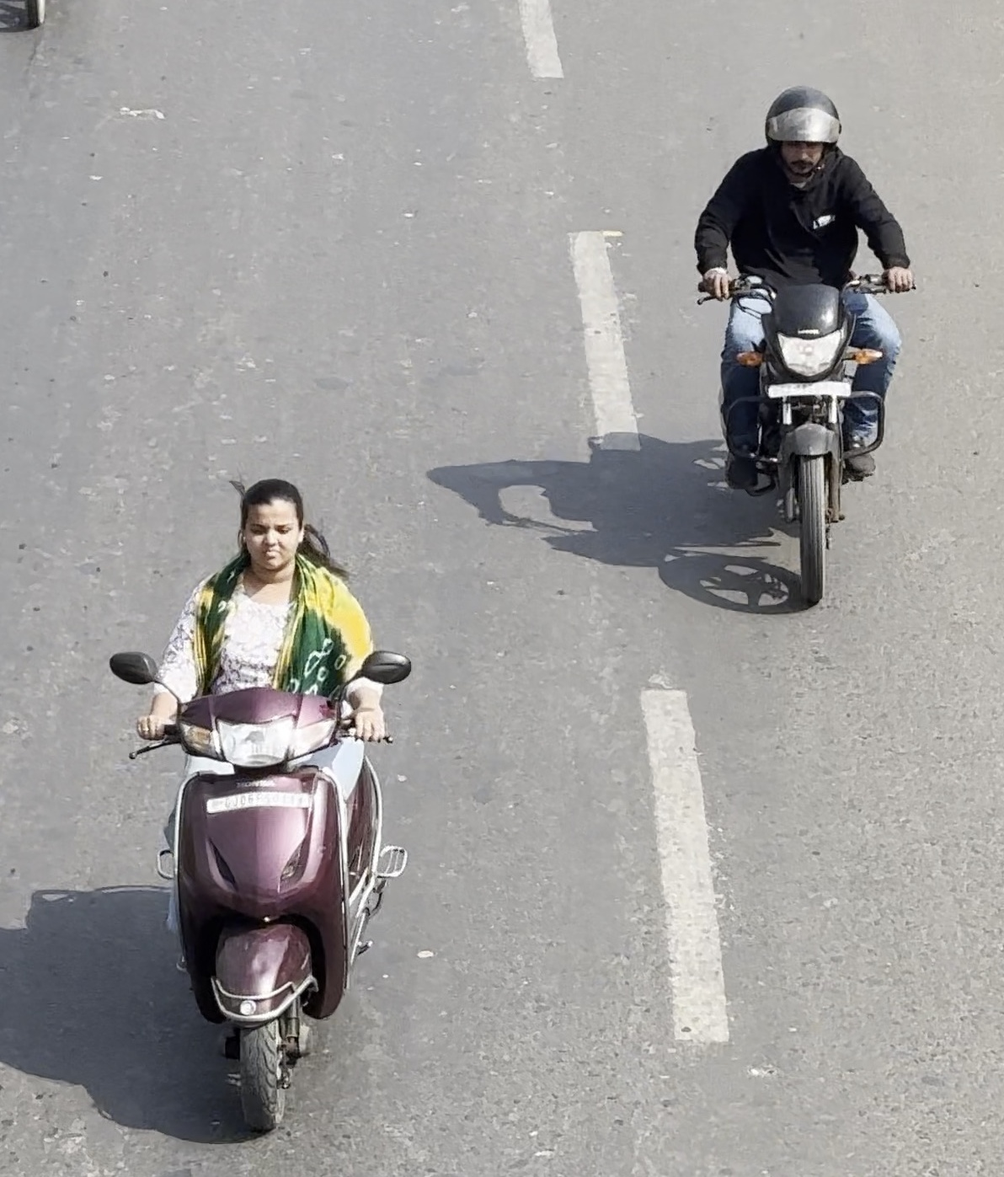BikeWithRider: (105, 466, 421, 1145), (676, 78, 927, 613)
Helmet: (748, 78, 854, 191)
NoHelmet: (220, 466, 318, 587)
